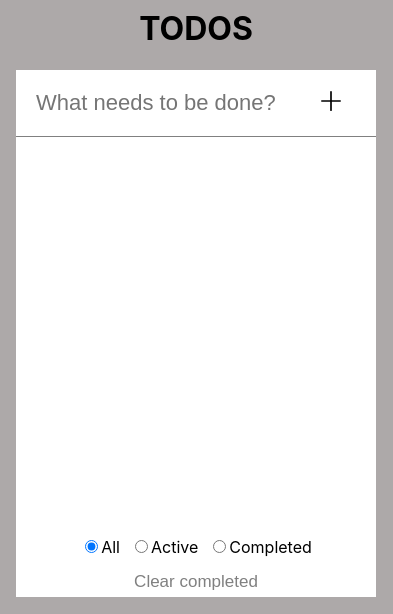
Test: Test TodoList page › Add task
Type "Test task" into the field named "add-task-form-input" at (196,103), box [16,70,376,137]
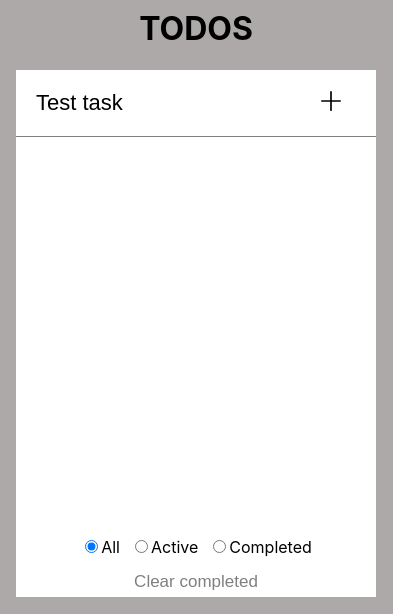
Submit the form named "add-task-form", box [16,70,376,137]
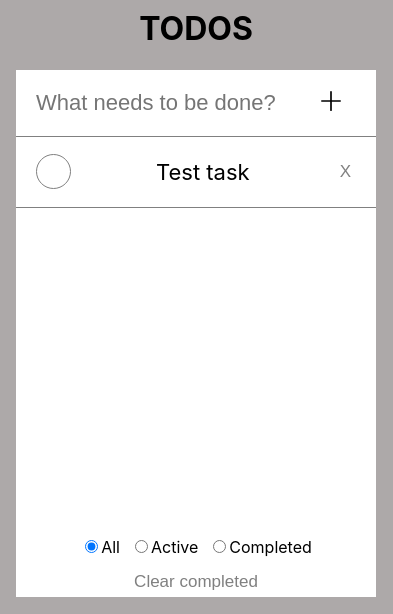
Check: the element labelled "task" shows "Test task", box [156,159,250,185]
